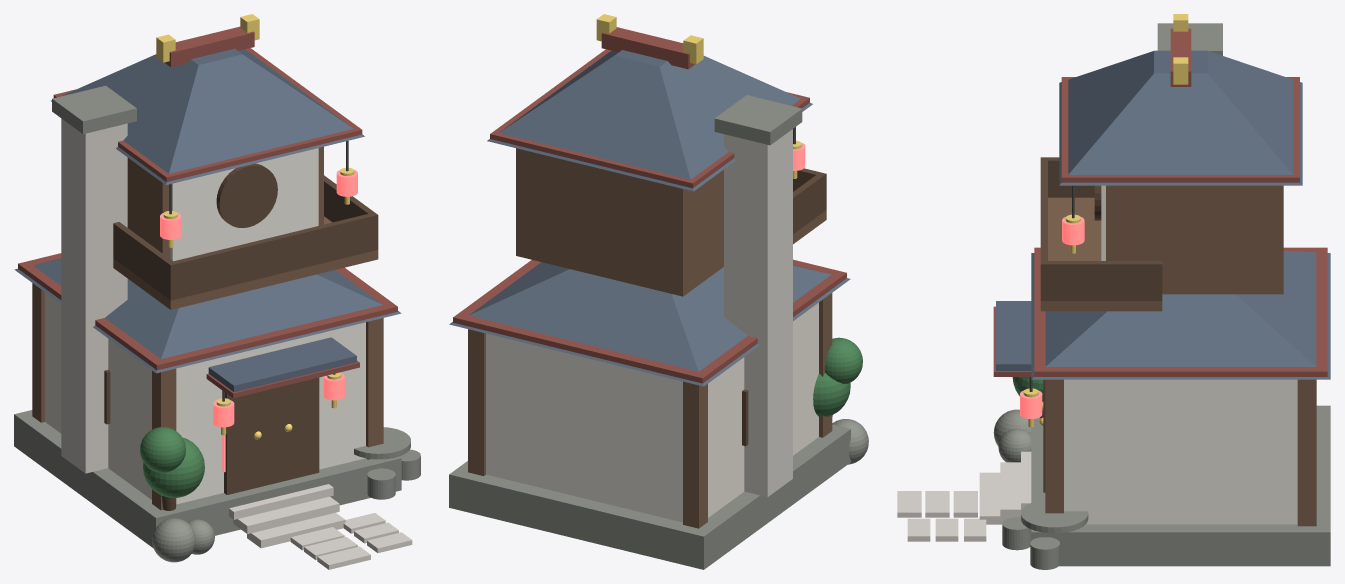
File: house.glb
3 renders of one model, left to right at view 1: azimuth 30°, elevation 25°; view 2: azimuth 150°, elevation 25°; view 3: azimuth 270°, elevation 25°, orthographic. The views are drawn at different scales.
Parts seen in each view (by area): view 1: RoofTop_Tiles, ChimneyBody, GroundPlaster, RoofMid_Tiles, Foundation, DoorFrame, UpperFrontPlaster, RailingFront, RoofMid_EavesTrim, PorticoRoof, UpperChamber, MoonWindowRing (+26 smaller); view 2: GroundPlaster, UpperChamber, RoofTop_Tiles, ChimneyBody, RoofMid_Tiles, Foundation, RoofMid_EavesTrim, Post.001, RoofTop_EavesTrim, ChimneyTop, Post.003, RoofTop_Ridge (+5 smaller); view 3: GroundPlaster, RoofTop_Tiles, RoofMid_Tiles, UpperChamber, Foundation, RoofMid_EavesTrim, RailingR, BalconyFloor, RoofTop_EavesTrim, Post.003, Post.002, PorticoRoof (+20 smaller).
Boxes of the visible parts, box(x1,y1,x2,y2) form: RoofTop_Tiles: box(51, 48, 364, 184); ChimneyBody: box(61, 118, 127, 473); GroundPlaster: box(45, 292, 365, 504); RoofMid_Tiles: box(14, 258, 401, 373); Foundation: box(14, 410, 401, 548); DoorFrame: box(224, 377, 319, 494); UpperFrontPlaster: box(170, 148, 318, 261); RailingFront: box(167, 212, 378, 300); RoofMid_EavesTrim: box(18, 253, 397, 370); PorticoRoof: box(208, 337, 356, 392); UpperChamber: box(127, 146, 323, 258); MoonWindowRing: box(216, 163, 277, 227); GroundPlaster: box(486, 302, 818, 522); UpperChamber: box(516, 148, 723, 296); RoofTop_Tiles: box(487, 50, 812, 191); ChimneyBody: box(724, 129, 792, 497); RoofMid_Tiles: box(449, 262, 850, 386); Foundation: box(449, 424, 850, 569); RoofMid_EavesTrim: box(453, 259, 846, 383); Post.001: box(683, 381, 707, 528); RoofTop_EavesTrim: box(490, 49, 809, 188); ChimneyTop: box(714, 95, 802, 145); Post.003: box(468, 329, 485, 475); RoofTop_Ridge: box(601, 27, 694, 69); GroundPlaster: box(1064, 379, 1297, 524); RoofTop_Tiles: box(1059, 50, 1302, 185); RoofMid_Tiles: box(1031, 251, 1330, 379); UpperChamber: box(1106, 185, 1283, 294); Foundation: box(1031, 405, 1330, 566); RoofMid_EavesTrim: box(1034, 247, 1327, 376); RailingR: box(1048, 261, 1162, 300); BalconyFloor: box(1040, 197, 1162, 311); RoofTop_EavesTrim: box(1061, 77, 1299, 182); Post.003: box(1297, 379, 1316, 526); Post.002: box(1045, 379, 1063, 513); PorticoRoof: box(996, 301, 1031, 370).
Size of the model in its own units: 3.68 by 5.57 by 4.63.
